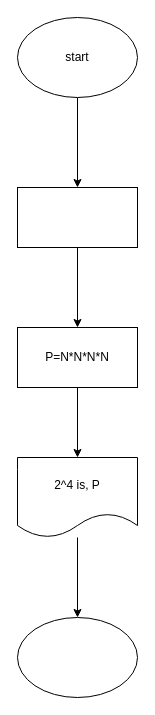
This 155x715 diagram has some shape labels left out. Here are the shapes that lost their labels. From the top down, the box of each, then its label:
(16, 186, 138, 248): N=2
(16, 616, 138, 698): End
